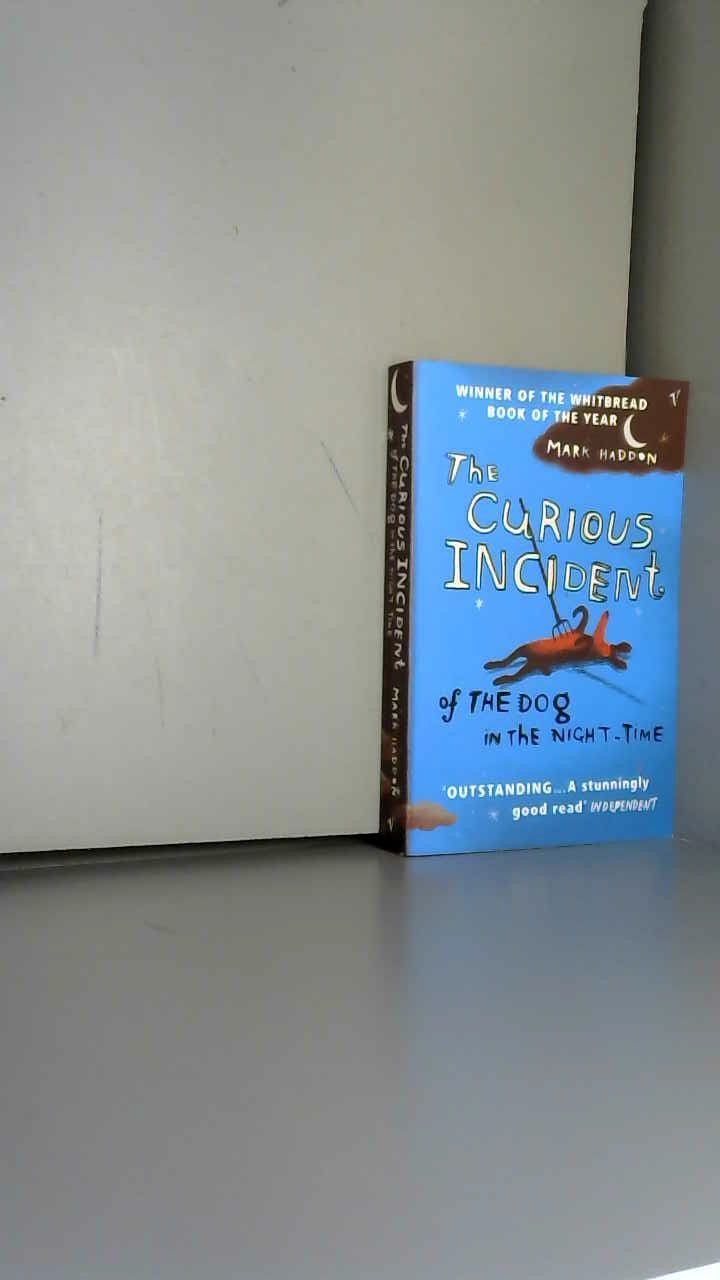book: (350, 330, 716, 900)
